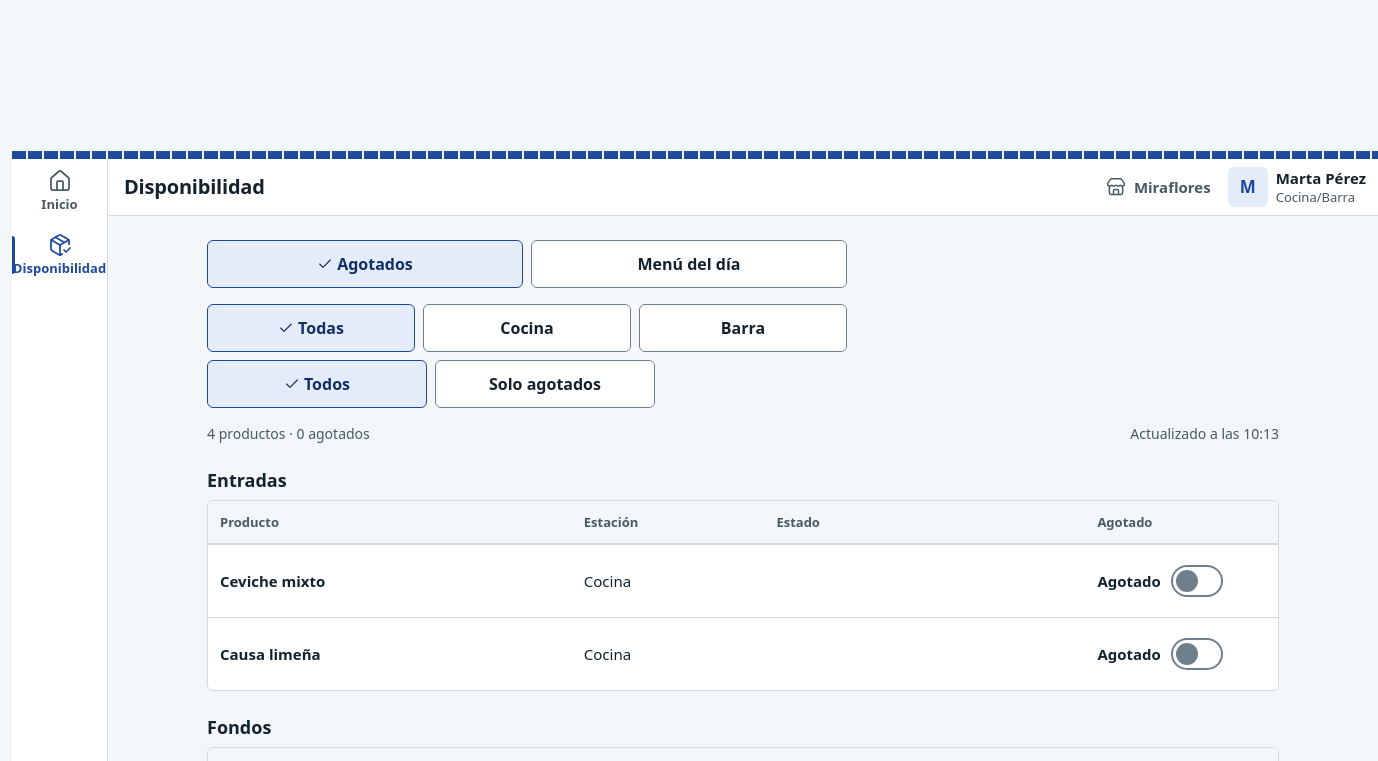
Test: Agotados: filtros › sin agotados dice que todo se puede vender y deja volver a ver todos
(page scrolled)
Expected: the element "Entradas" is shown, x1=207 y1=460 x2=1279 y2=691
Click the button "Solo agotados": click(545, 384) x1=435 y1=360 x2=655 y2=408
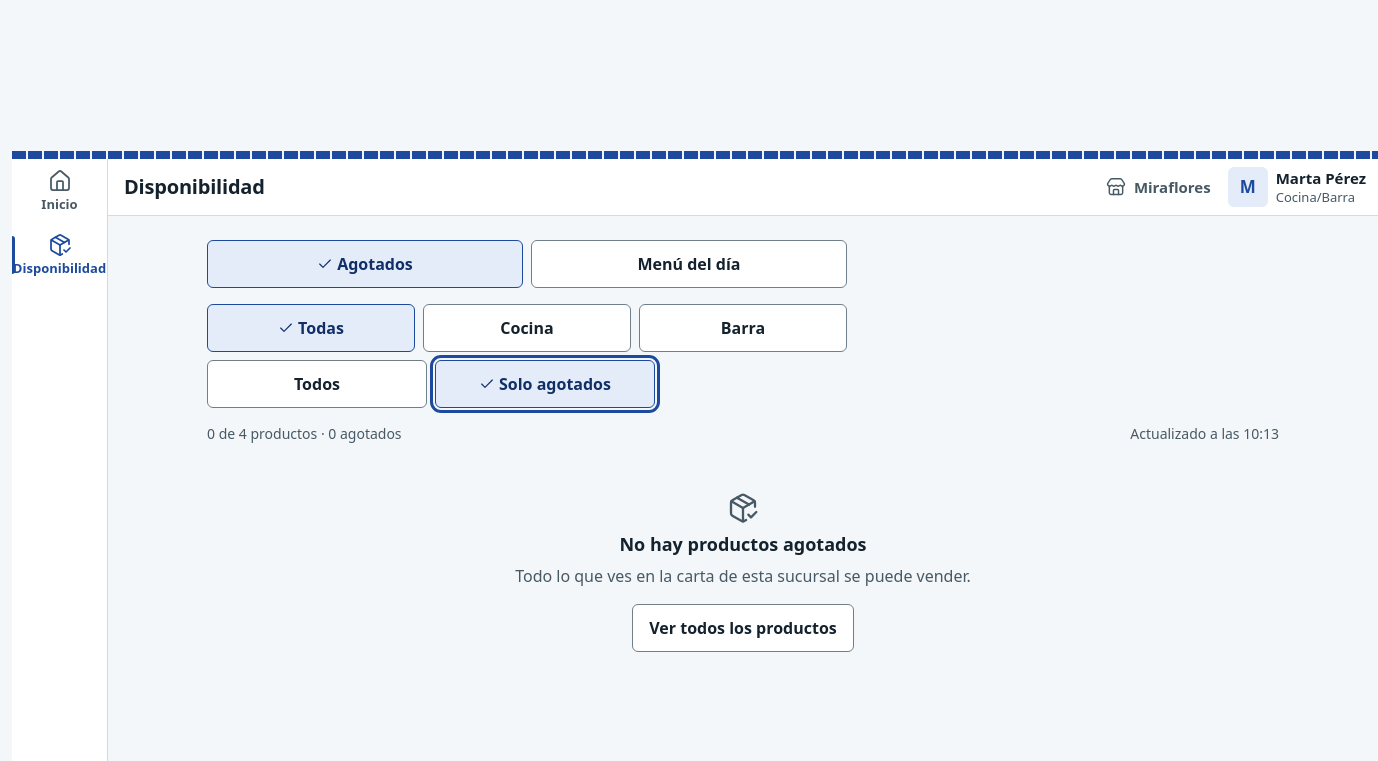
Expected: the text "No hay productos agotados" is shown, x1=620 y1=532 x2=867 y2=556
Click the button "Ver todos los productos": click(743, 628) x1=632 y1=604 x2=854 y2=652
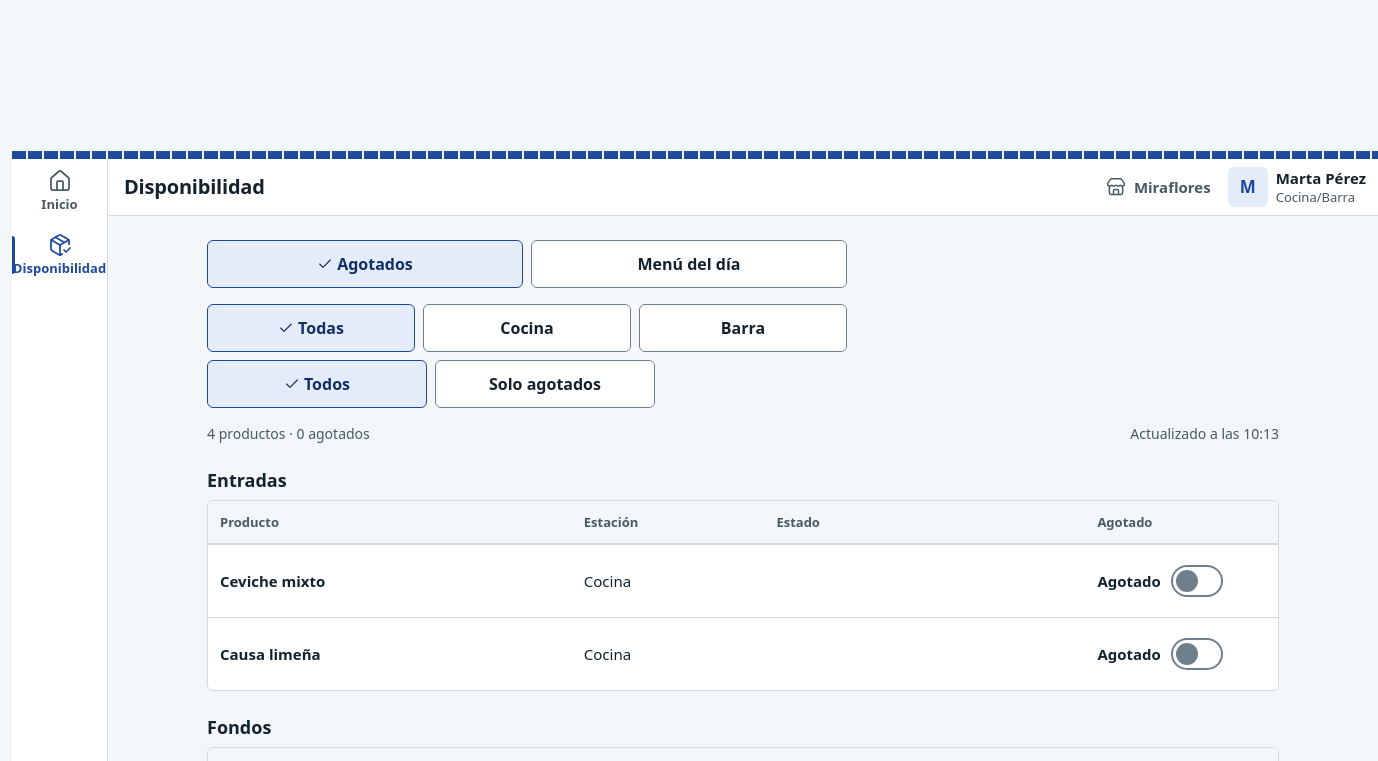
Expected: the element "Entradas" is shown, x1=207 y1=460 x2=1279 y2=691
